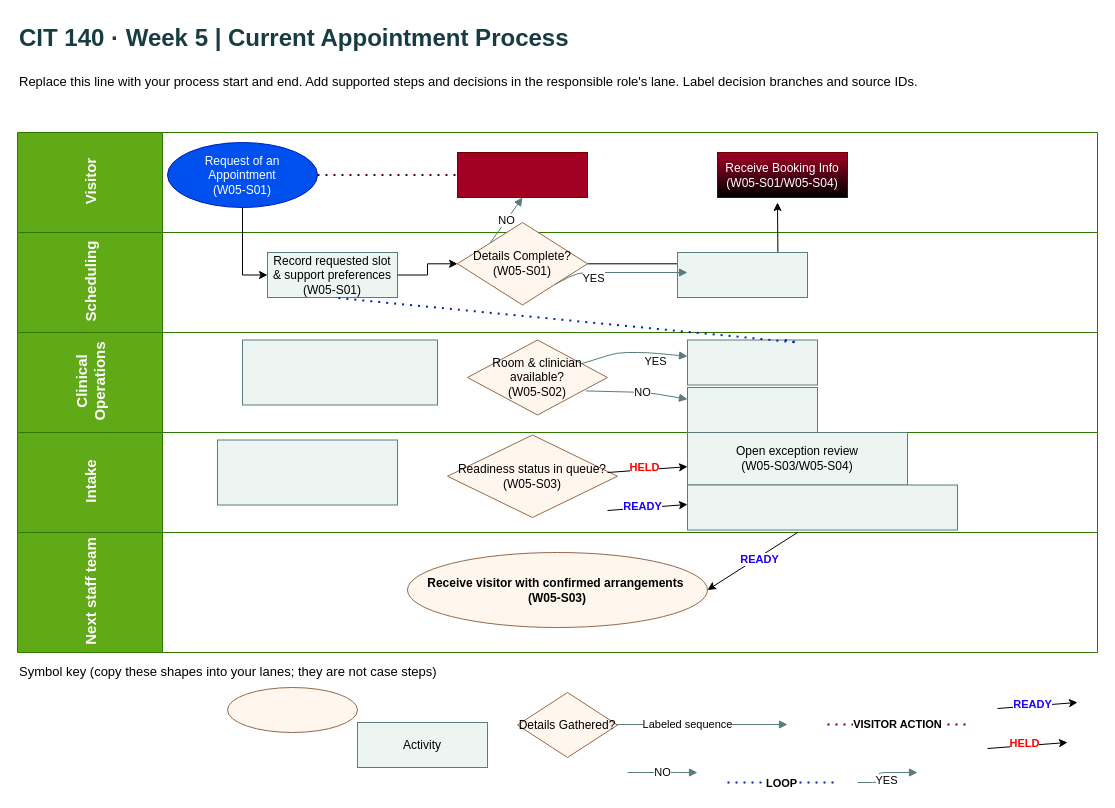
The diagram is 1115 pixels wide and 808 high, and some of its shapes have lost their labels. Here are the shapes that lost their labels. From the top down, the centre of each, then its label:
At (522,175): "Contact visitor for clarification (W05-S01)".
At (742,275): "Request clinical readiness decision (W05-S01)".
At (340,372): "Receive scheduling request & check availability (W05-S02)".
At (752,362): "Retain held status & review capacity (W05-S02)".
At (752,409): "Record readiness status (W05-S02)".
At (307,472): "Visitor arrives & locate appointment (W05-S03)".
At (822,507): "Confirm support arrangements & handover (W05-S03)".
At (292,709): "Start / end".
